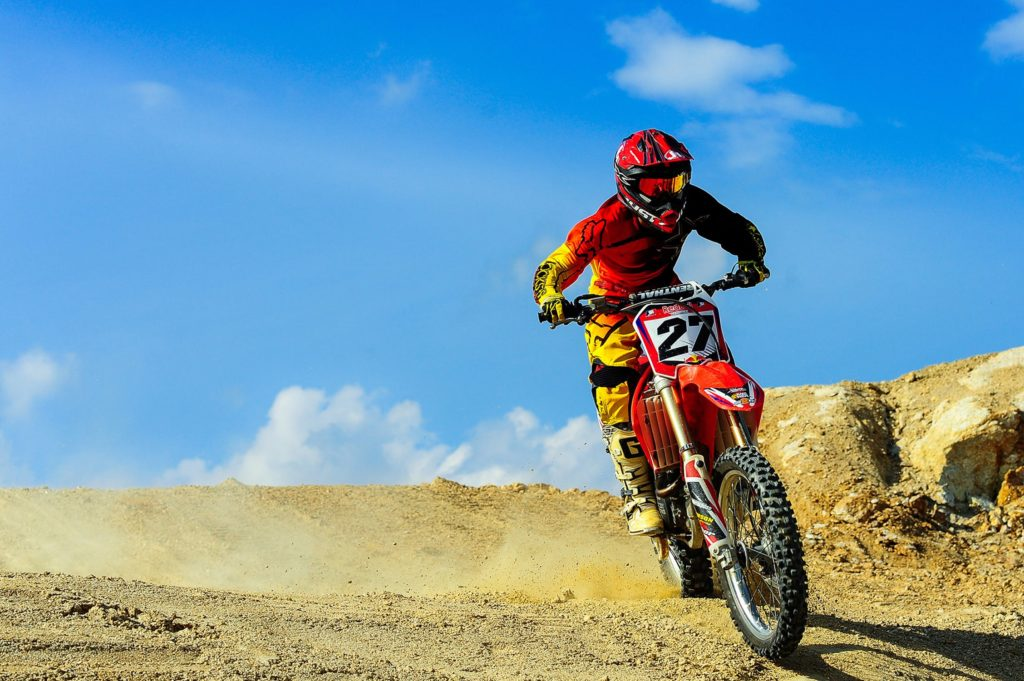helmet: (593, 111, 717, 244)
